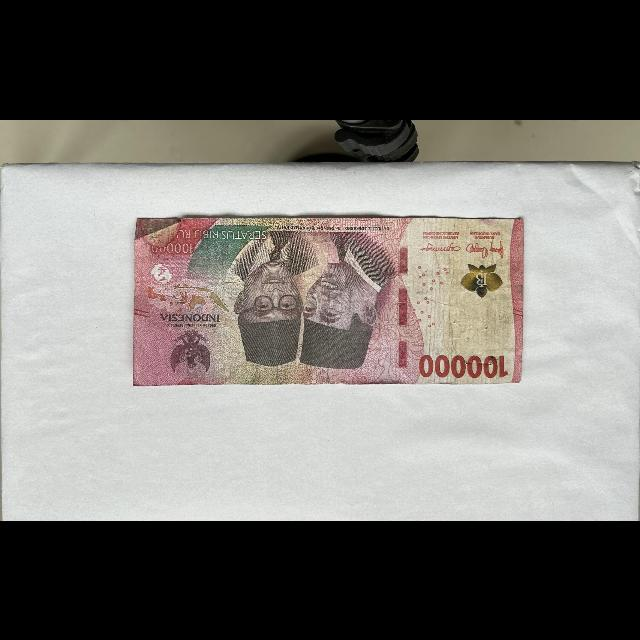Palsu-100k: (131, 215, 526, 387)
Tinta-Palsu-100k: (461, 262, 504, 298)
